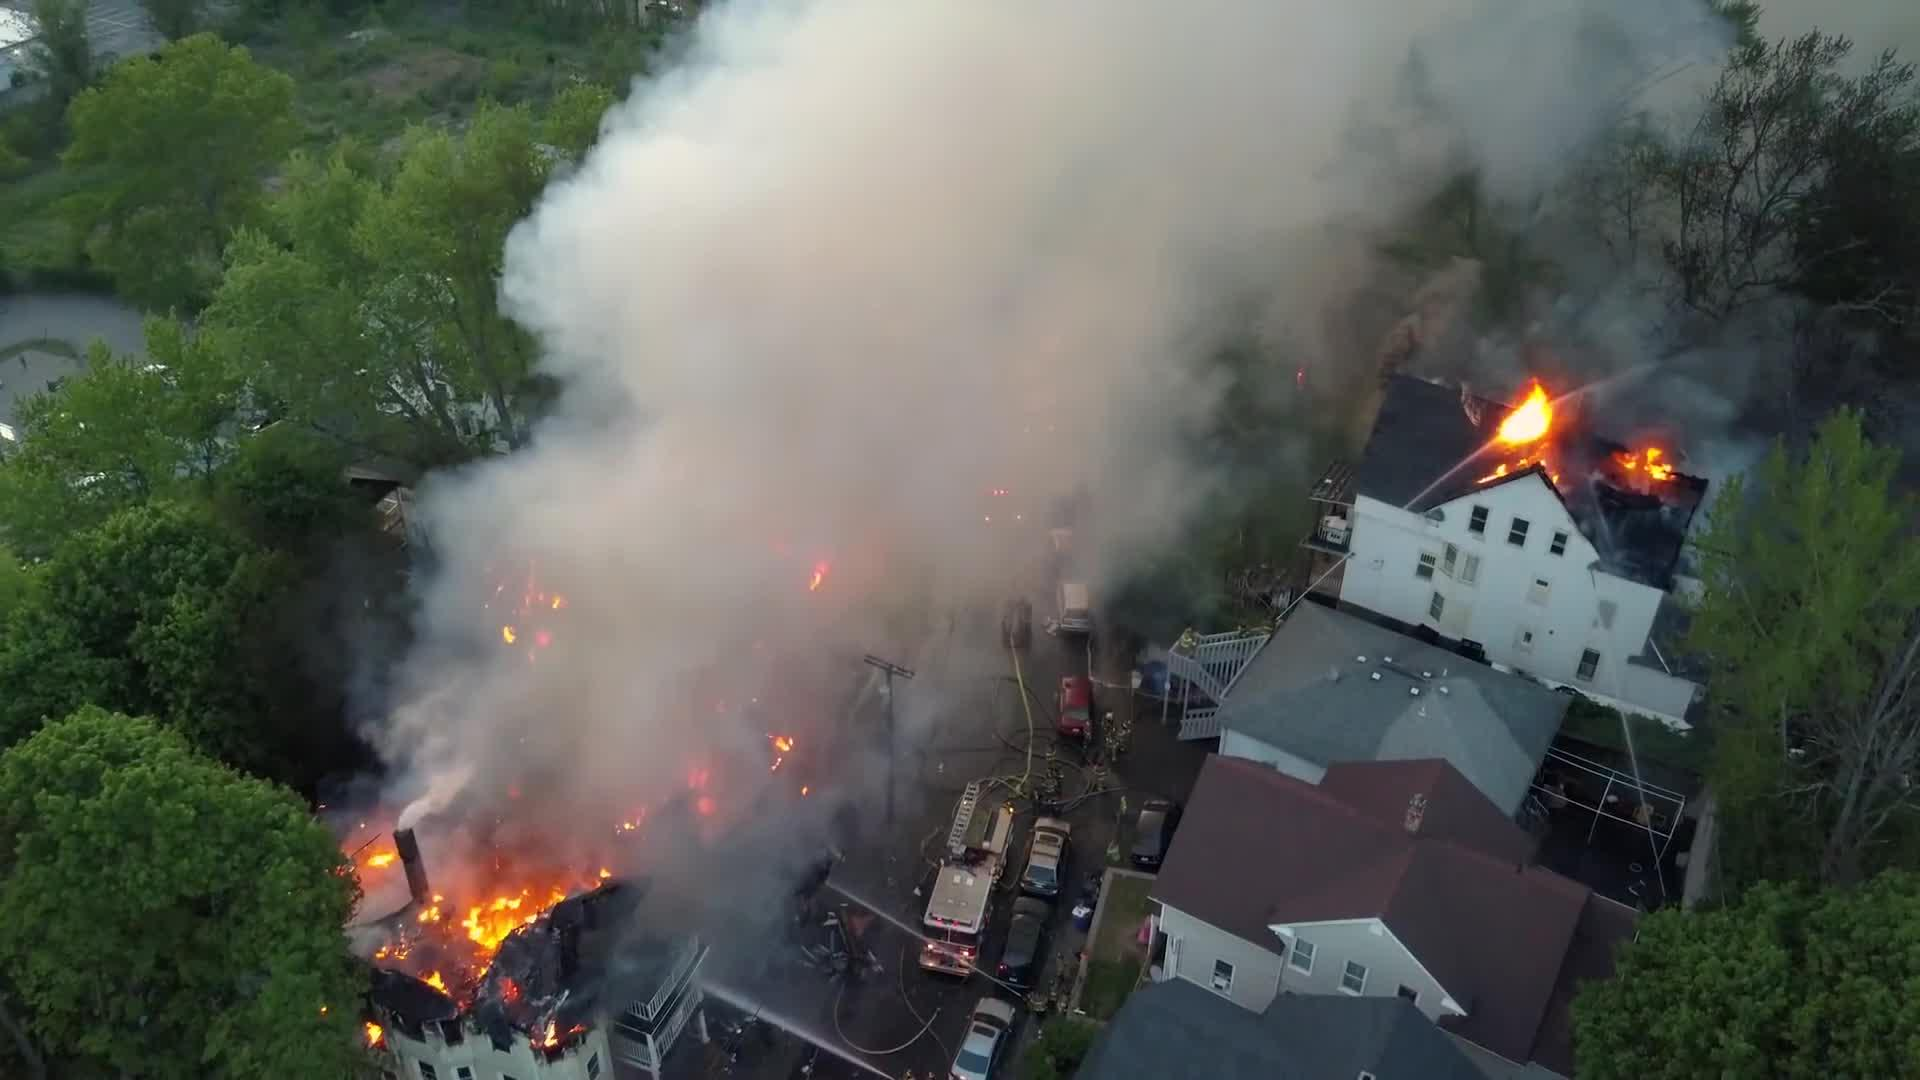smoke: (621, 115, 1215, 477), (473, 498, 951, 770)
